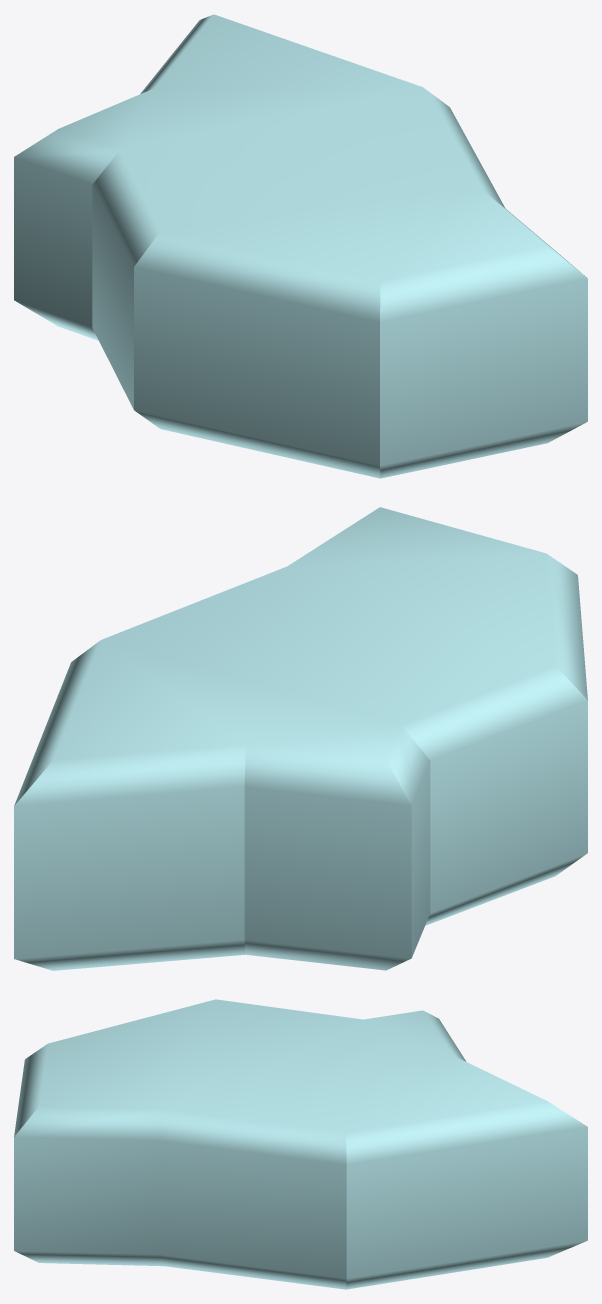
File: ice_floe_small_011.fbx
3 views of the same model, one above another, from view 1: azimuth 30°, elevation 25°; view 2: azimuth 150°, elevation 25°; view 3: azimuth 270°, elevation 25° (orthographic). The views are drawn at different scales.
Visible parts, largest first — view 1: ice_floe_small_011; view 2: ice_floe_small_011; view 3: ice_floe_small_011.
Boxes of the visible parts, x1,y1,x2,y2 form: ice_floe_small_011: (14,14,587,478); ice_floe_small_011: (14,507,587,970); ice_floe_small_011: (14,999,587,1289).
Bounding box in the file's own units: 148 × 231 × 69.62.
